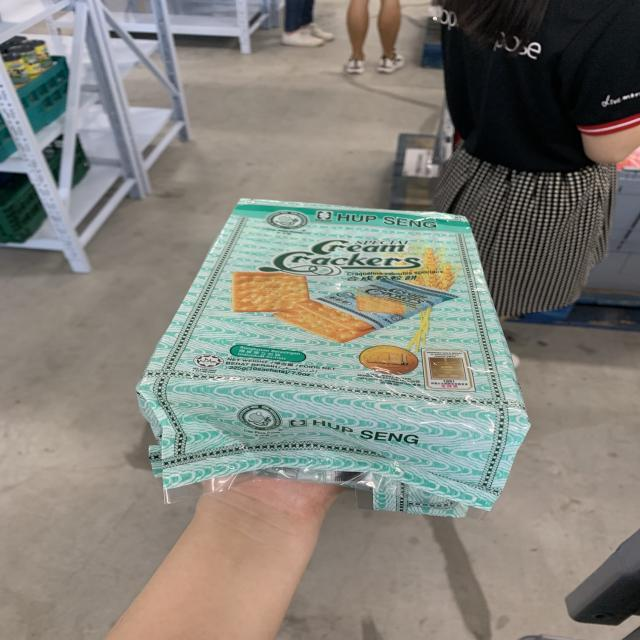object_name: (170, 206, 500, 488)
